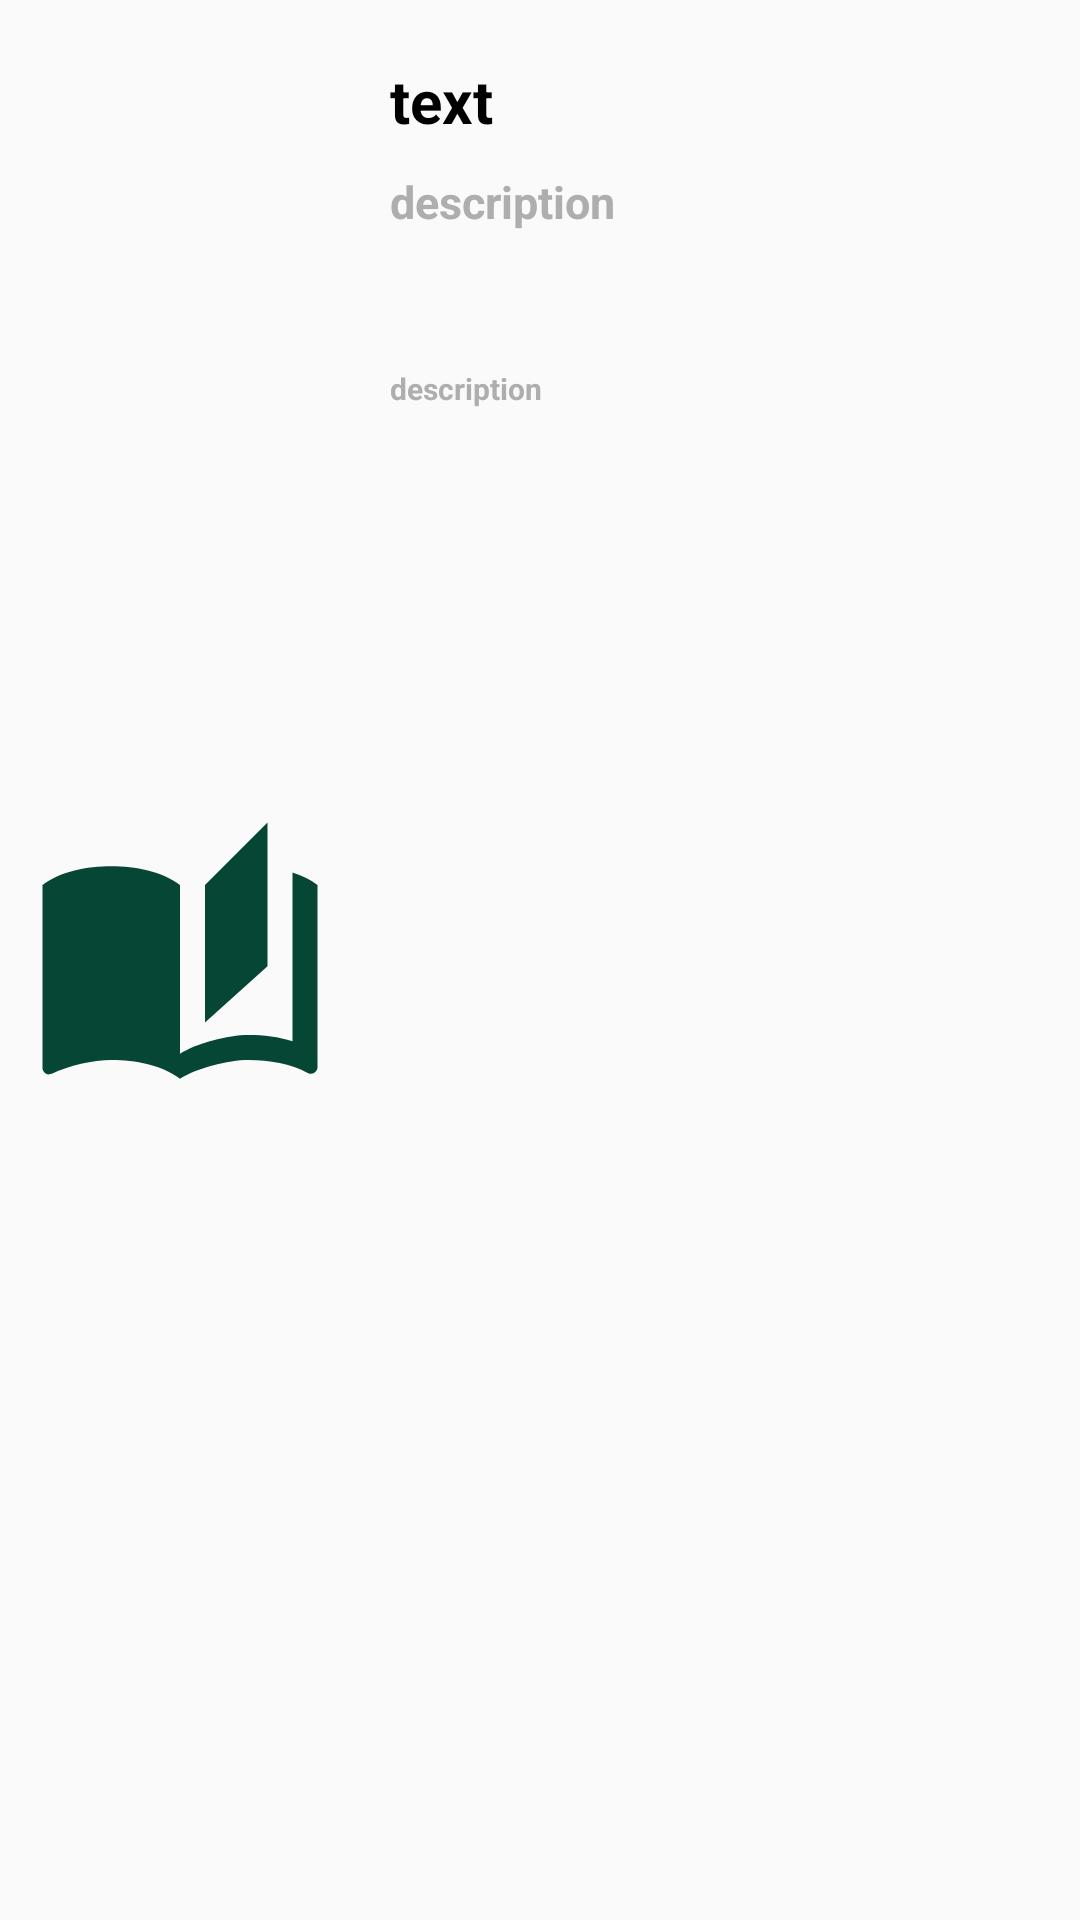

Icons on this 1080*1920 Android screen, each with the point to tap as (x,y):
diary: (180,950)
